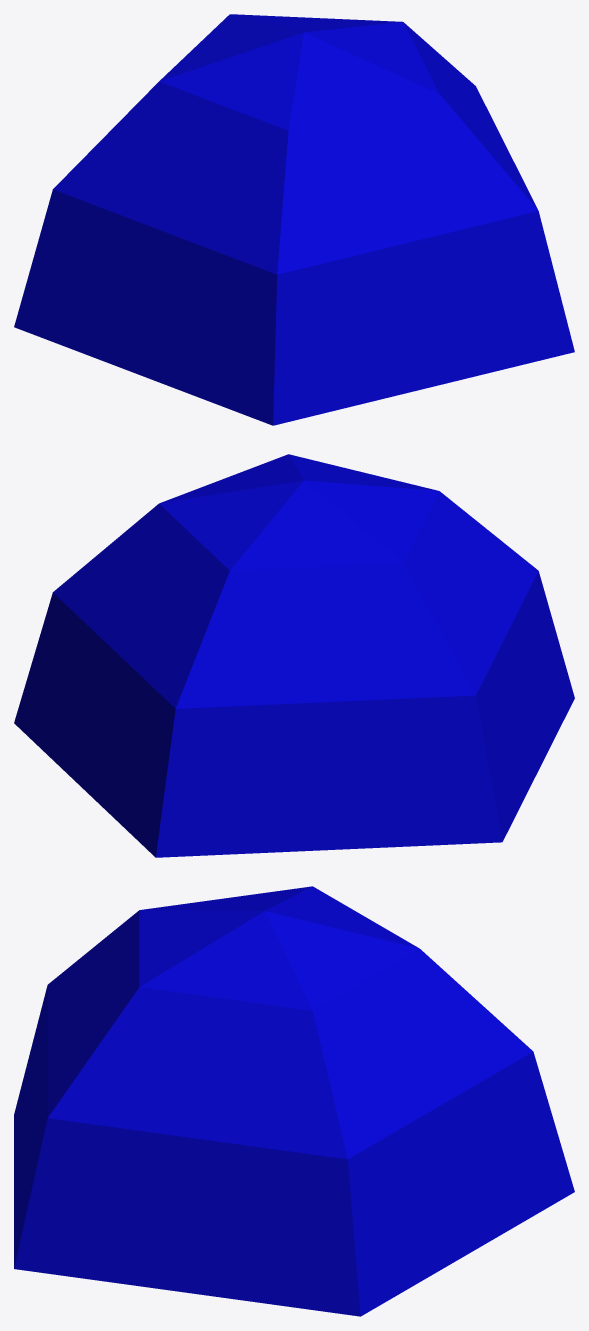
File: Holo Projector.fbx
The picture shows the model from 3 angles, top to bottom: view 1: azimuth 30°, elevation 25°; view 2: azimuth 150°, elevation 25°; view 3: azimuth 270°, elevation 25°; orthographic projection. The views are drawn at different scales.
Parts seen in each view (by area): view 1: Cylinder; view 2: Cylinder; view 3: Cylinder.
Part boxes in pixels (x1=…): Cylinder: x1=14, y1=14, x2=574, y2=425; Cylinder: x1=14, y1=454, x2=574, y2=857; Cylinder: x1=14, y1=886, x2=574, y2=1316.
Size of the model in its own units: 1.9 by 1.11 by 1.81.
